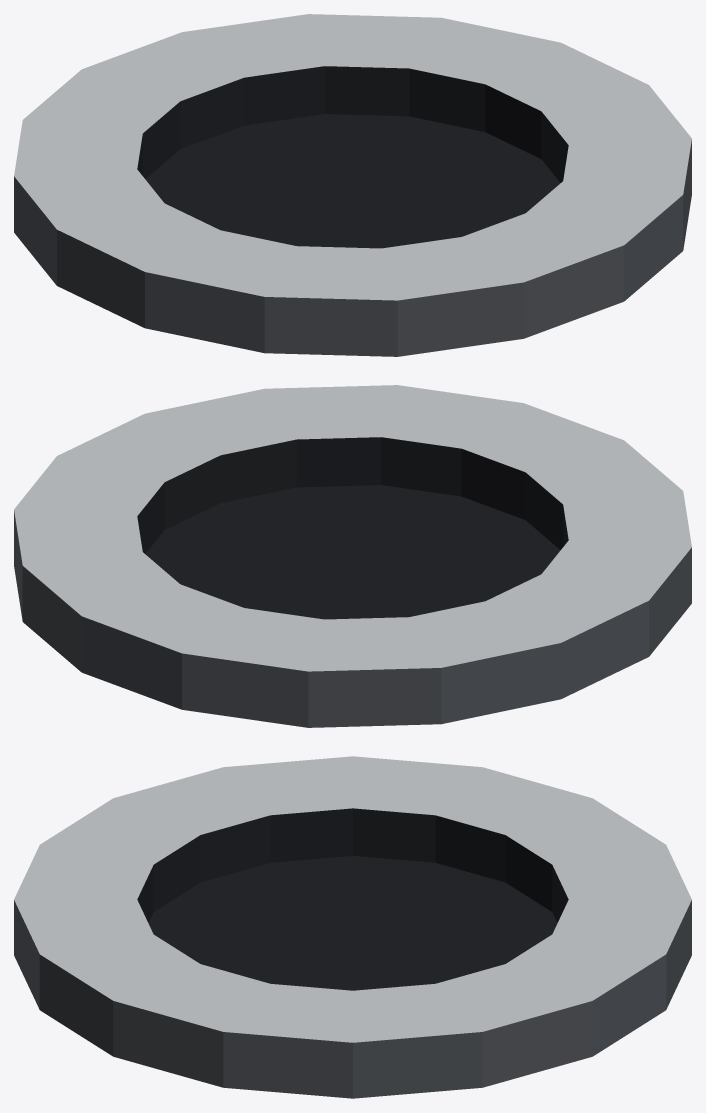
File: Vehicles_CybertruckSunroof.fbx
3 renders of one model, top to bottom at view 1: azimuth 30°, elevation 25°; view 2: azimuth 150°, elevation 25°; view 3: azimuth 270°, elevation 25°, orthographic.
Visible parts, largest first — view 1: Vehicles_CybertruckSunroof; view 2: Vehicles_CybertruckSunroof; view 3: Vehicles_CybertruckSunroof.
Boxes of the visible parts, bbox=[...] form: Vehicles_CybertruckSunroof: bbox=[14, 14, 691, 356]; Vehicles_CybertruckSunroof: bbox=[14, 385, 691, 727]; Vehicles_CybertruckSunroof: bbox=[14, 756, 691, 1098].
Bounding box in the file's own units: 44 × 4 × 44.
